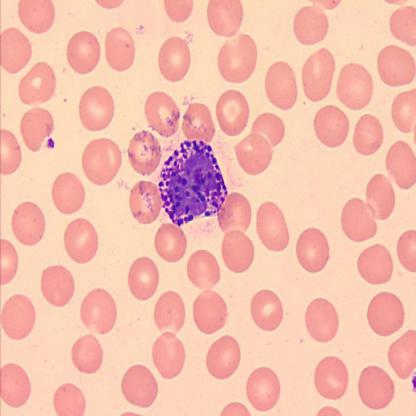Basophil: (157, 136, 228, 230)
